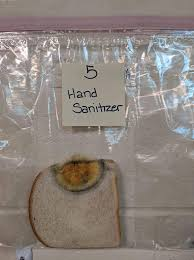mold_bread: (49, 153, 107, 194)
